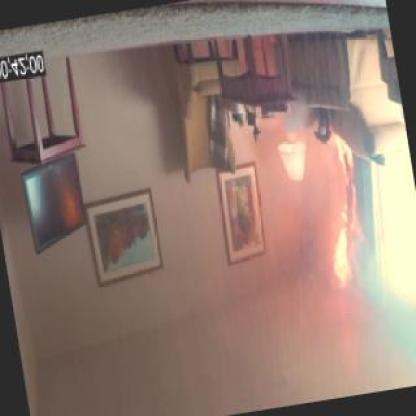Fire: (332, 213, 352, 295)
